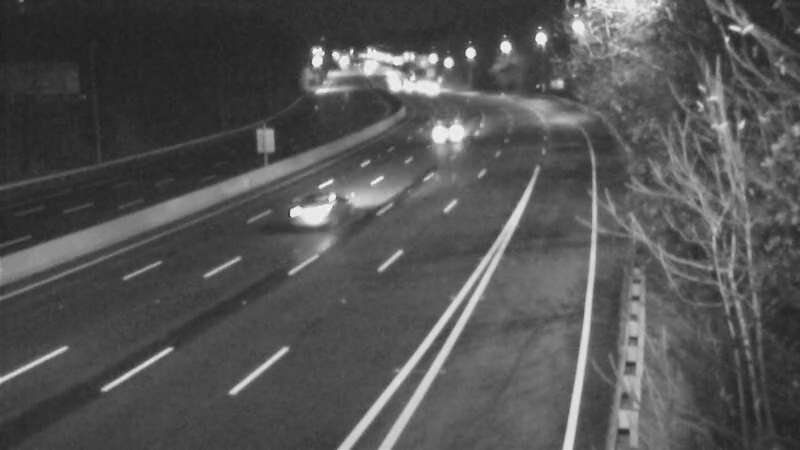vehicle: (270, 171, 350, 251), (419, 103, 469, 153)
